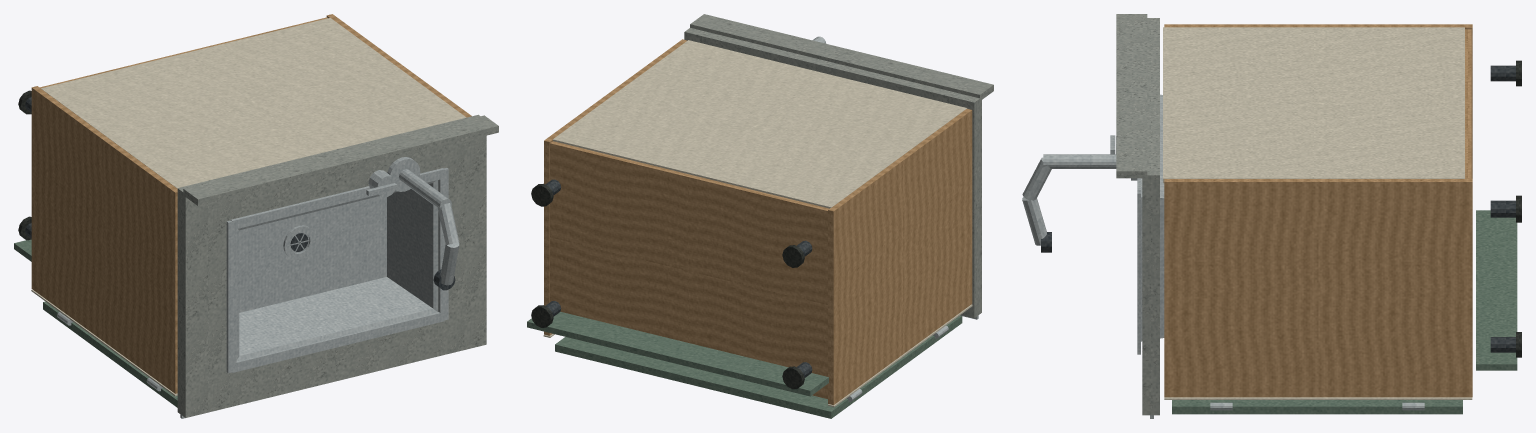
File: PROJECT_Z_Kitchen_BaseSink900_Prefab.glb
3 views of the same model, side by side, from view 1: azimuth 30°, elevation 25°; view 2: azimuth 150°, elevation 25°; view 3: azimuth 270°, elevation 25° (orthographic). The views are drawn at different scales.
Parts seen in each view (by area): view 1: BASE_SINK_900_CabinetBack, BASE_SINK_900_CarcassSide_L, BASE_SINK_900_PressedSteelBowl_RealRecess, BASE_SINK_900_WorktopCutoutSide_L, BASE_SINK_900_WorktopCutoutSide_R, BASE_SINK_900_WorktopCutoutFront, BASE_SINK_900_QuartzRearUpstand, BASE_SINK_900_WorktopCutoutBack, BASE_SINK_900_SinkFlange_Front, BASE_SINK_900_SinkFlange_Rear, BASE_SINK_900_SinkFlange_L, BASE_SINK_900_L_DoorLeaf (+9 smaller); view 2: BASE_SINK_900_CabinetBottom, BASE_SINK_900_CabinetBack, BASE_SINK_900_CarcassSide_L, BASE_SINK_900_RecessedToeKick, BASE_SINK_900_QuartzRearUpstand, BASE_SINK_900_L_DoorLeaf, BASE_SINK_900_WorktopCutoutSide_L, BASE_SINK_900_WorktopCutoutBack, BASE_SINK_900_R_DoorLeaf, BASE_SINK_900_CarcassSide_R, BASE_SINK_900_WorktopCutoutSide_R, BASE_SINK_900_EdgeBand_L; view 3: BASE_SINK_900_CarcassSide_R, BASE_SINK_900_CabinetBack, BASE_SINK_900_RecessedToeKick, BASE_SINK_900_QuartzRearUpstand, BASE_SINK_900_WorktopCutoutSide_R, BASE_SINK_900_R_DoorLeaf, BASE_SINK_900_CarcassSide_L, BASE_SINK_900_WorktopCutoutBack, BASE_SINK_900_PressedSteelBowl_RealRecess, BASE_SINK_900_FaucetVertical, BASE_SINK_900_CabinetBottom, BASE_SINK_900_EdgeBand_R (+3 smaller).
Boxes of the visible parts, x1,y1,x2,y2 form: BASE_SINK_900_CabinetBack: (41, 18, 466, 188); BASE_SINK_900_CarcassSide_L: (31, 86, 177, 393); BASE_SINK_900_PressedSteelBowl_RealRecess: (236, 180, 438, 361); BASE_SINK_900_WorktopCutoutSide_L: (177, 177, 229, 417); BASE_SINK_900_WorktopCutoutSide_R: (434, 114, 486, 355); BASE_SINK_900_WorktopCutoutFront: (230, 322, 442, 407); BASE_SINK_900_QuartzRearUpstand: (183, 115, 498, 205); BASE_SINK_900_WorktopCutoutBack: (222, 125, 442, 220); BASE_SINK_900_SinkFlange_Front: (232, 312, 444, 372); BASE_SINK_900_SinkFlange_Rear: (230, 168, 444, 228); BASE_SINK_900_SinkFlange_L: (226, 220, 236, 373); BASE_SINK_900_L_DoorLeaf: (43, 301, 177, 407); BASE_SINK_900_CabinetBottom: (550, 141, 829, 398); BASE_SINK_900_CabinetBack: (553, 40, 967, 208); BASE_SINK_900_CarcassSide_L: (828, 109, 972, 405); BASE_SINK_900_RecessedToeKick: (527, 311, 828, 396); BASE_SINK_900_QuartzRearUpstand: (690, 14, 993, 99); BASE_SINK_900_L_DoorLeaf: (692, 315, 962, 418); BASE_SINK_900_WorktopCutoutSide_L: (931, 88, 981, 318); BASE_SINK_900_WorktopCutoutBack: (727, 38, 936, 99); BASE_SINK_900_R_DoorLeaf: (555, 337, 702, 384); BASE_SINK_900_CarcassSide_R: (544, 39, 687, 335); BASE_SINK_900_WorktopCutoutSide_R: (684, 28, 732, 49); BASE_SINK_900_EdgeBand_L: (828, 304, 972, 407); BASE_SINK_900_CarcassSide_R: (1164, 178, 1472, 397); BASE_SINK_900_CabinetBack: (1163, 27, 1464, 183); BASE_SINK_900_RecessedToeKick: (1476, 210, 1517, 370); BASE_SINK_900_QuartzRearUpstand: (1116, 14, 1147, 178); BASE_SINK_900_WorktopCutoutSide_R: (1142, 152, 1159, 415); BASE_SINK_900_R_DoorLeaf: (1172, 400, 1462, 414); BASE_SINK_900_CarcassSide_L: (1164, 24, 1472, 178); BASE_SINK_900_WorktopCutoutBack: (1147, 41, 1159, 151); BASE_SINK_900_PressedSteelBowl_RealRecess: (1141, 94, 1164, 341); BASE_SINK_900_FaucetVertical: (1043, 154, 1116, 168); BASE_SINK_900_CabinetBottom: (1465, 29, 1471, 178); BASE_SINK_900_EdgeBand_R: (1164, 397, 1472, 399).
Bounding box in the file's own units: 0.902 × 0.7155 × 1.21.
Materials: 8 (8 with a texture image).
